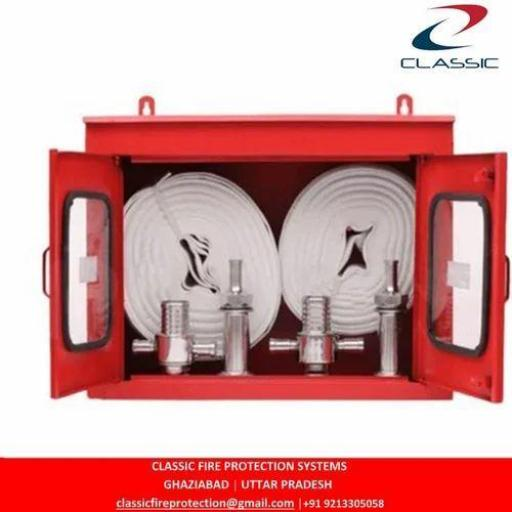fire_hose: (30, 83, 512, 412)
